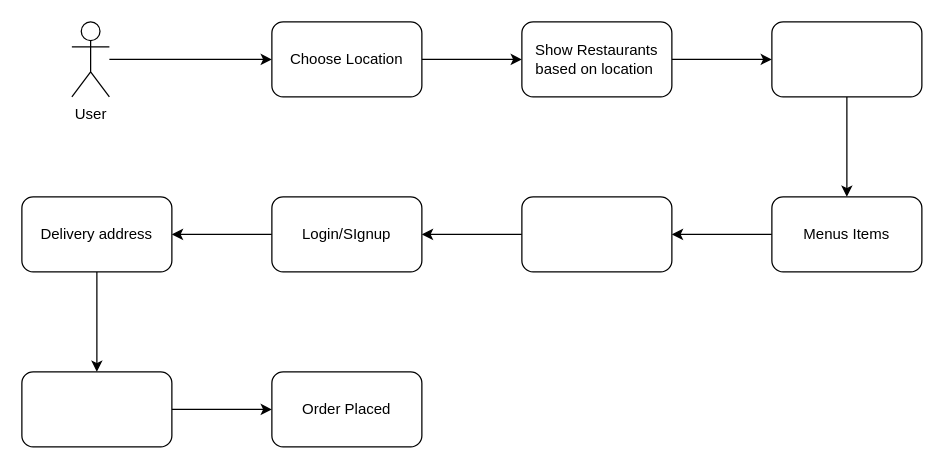
The diagram is 944 pixels wide and 469 high, and some of its shapes have lost their labels. Each missing label, with the box of its shape:
Add To Cart: (521, 196, 672, 272)
Payment: (21, 371, 172, 447)
Select One Location: (771, 21, 922, 97)
